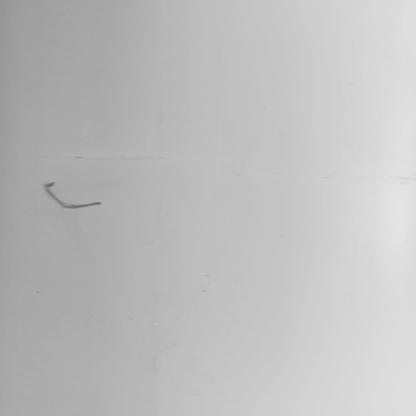fengxi: (35, 177, 110, 212)
